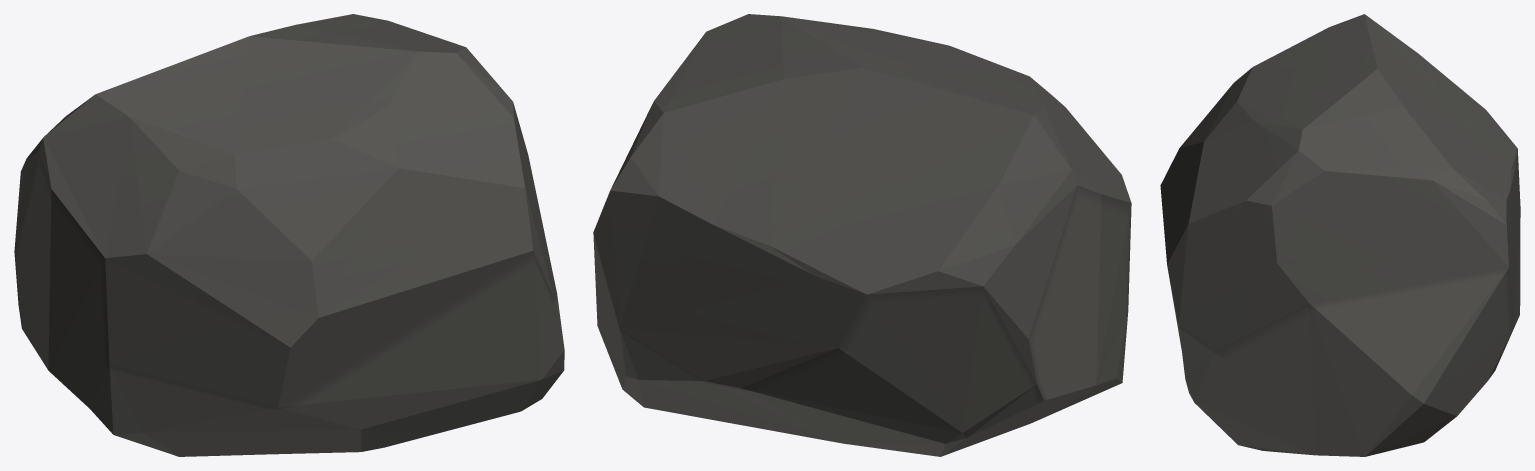
File: isle_rock_a.gltf
3 renders of one model, left to right at view 1: azimuth 30°, elevation 25°; view 2: azimuth 150°, elevation 25°; view 3: azimuth 270°, elevation 25°, orthographic. The views are drawn at different scales.
Visible parts, largest first — view 1: isle_rock_a; view 2: isle_rock_a; view 3: isle_rock_a.
Part boxes in pixels (left/top/right/bottom): isle_rock_a: left=14, top=14, right=564, bottom=456; isle_rock_a: left=593, top=14, right=1131, bottom=456; isle_rock_a: left=1160, top=14, right=1520, bottom=456.
Bounding box in the file's own units: 1.37 × 1.04 × 1.14.
1 material, 1 textured.
